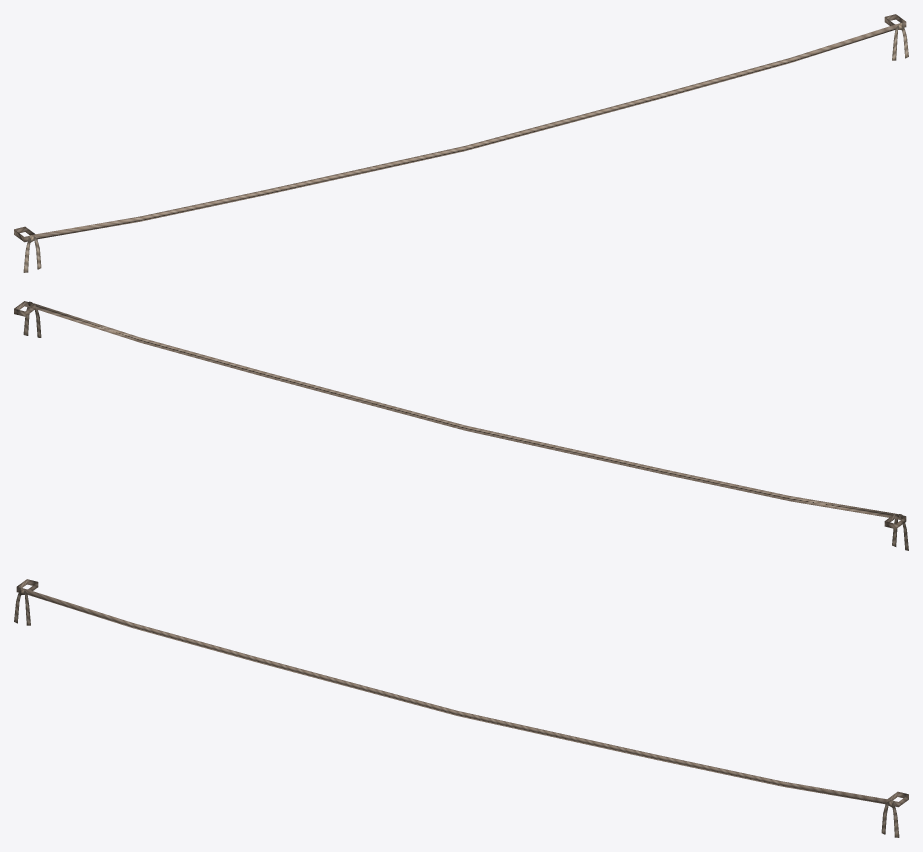
The model's file is jsf_2P_String_s03_02.fbx.
The picture shows the model from 3 angles, top to bottom: view 1: azimuth 30°, elevation 25°; view 2: azimuth 150°, elevation 25°; view 3: azimuth 330°, elevation 25°; orthographic projection.
Visible parts, largest first — view 1: jsf_2P_String_s03_02; view 2: jsf_2P_String_s03_02; view 3: jsf_2P_String_s03_02.
Part boxes in pixels (box(x1,y1,x2,y2)): jsf_2P_String_s03_02: box(14, 14, 908, 272); jsf_2P_String_s03_02: box(14, 301, 908, 550); jsf_2P_String_s03_02: box(14, 579, 908, 837).
Bounding box in the file's own units: 254 × 9.85 × 5.92.
